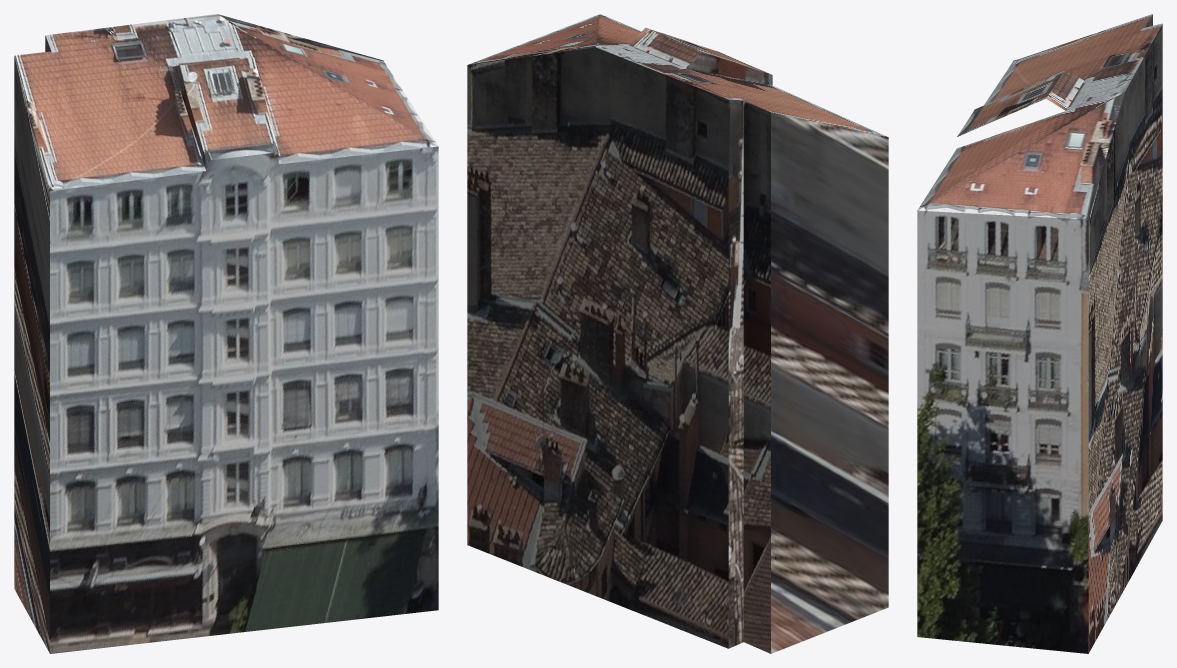
3 views of the same model, side by side, from view 1: azimuth 30°, elevation 25°; view 2: azimuth 150°, elevation 25°; view 3: azimuth 270°, elevation 25° (orthographic). The views are drawn at different scales.
Parts seen in each view (by area): view 1: Z_UP; view 2: Z_UP; view 3: Z_UP.
Boxes of the visible parts, x1=… form: Z_UP: x1=14, y1=14, x2=438, y2=653; Z_UP: x1=467, y1=14, x2=888, y2=653; Z_UP: x1=917, y1=14, x2=1162, y2=653.
Bounding box in the file's own units: 18.83 × 26 × 11.64.
Materials: 2 (1 with a texture image).
